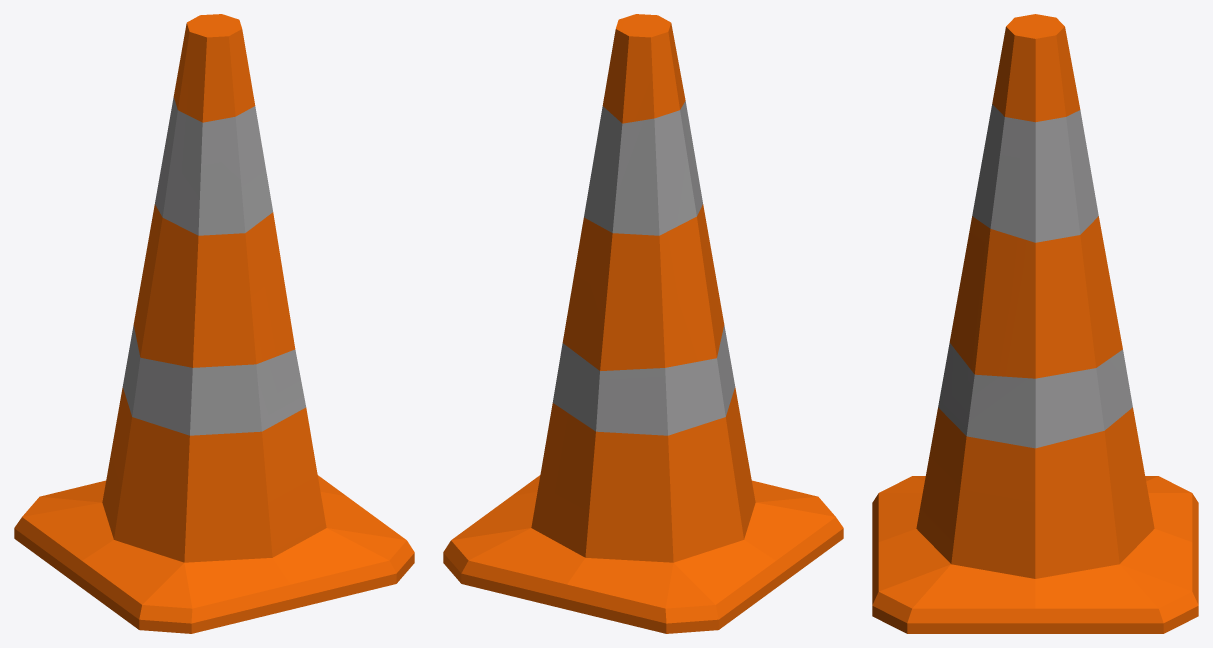
The model's file is dividers-traffic-cone.glb.
3 renders of one model, left to right at view 1: azimuth 30°, elevation 25°; view 2: azimuth 150°, elevation 25°; view 3: azimuth 270°, elevation 25°, orthographic. The views are drawn at different scales.
Parts seen in each view (by area): view 1: traffic-cone; view 2: traffic-cone; view 3: traffic-cone.
Part boxes in pixels (left/top/right/bottom): traffic-cone: left=14, top=14, right=414, bottom=633; traffic-cone: left=443, top=14, right=843, bottom=633; traffic-cone: left=872, top=14, right=1198, bottom=633.
Bounding box in the file's own units: 0.3151 × 0.5735 × 0.3151.
1 material, 1 textured.
